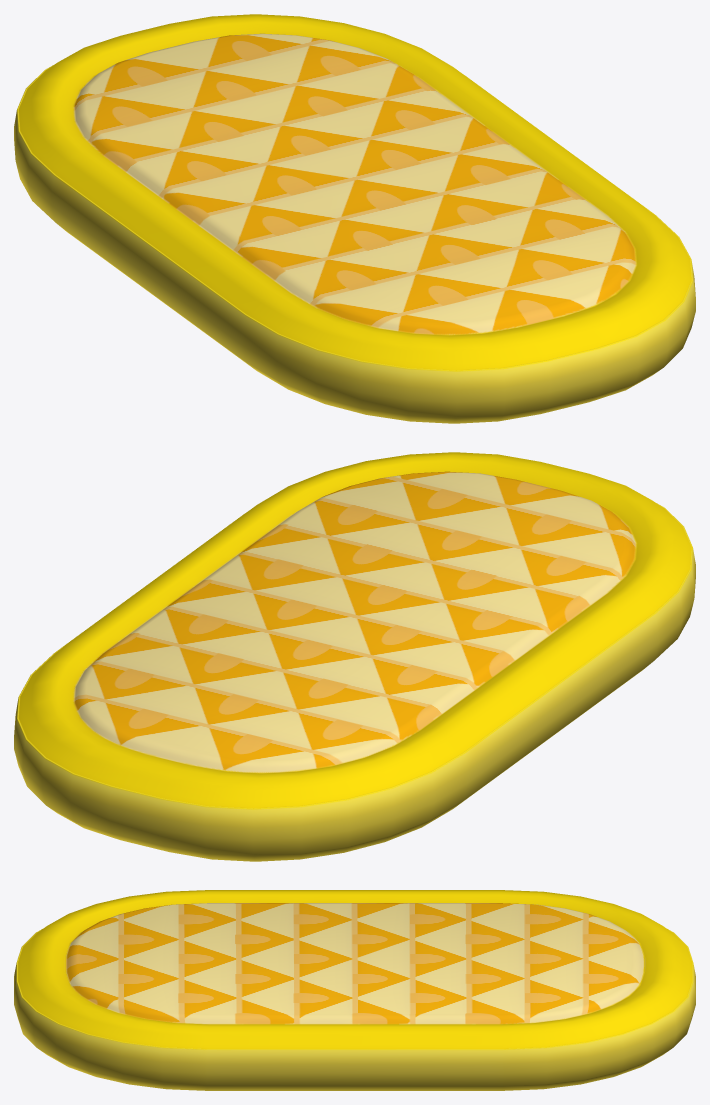
The model's file is PoolFloat04_2.FBX.
3 views of the same model, one above another, from view 1: azimuth 30°, elevation 25°; view 2: azimuth 150°, elevation 25°; view 3: azimuth 270°, elevation 25° (orthographic). The views are drawn at different scales.
Visible parts, largest first — view 1: PoolFloat04_2; view 2: PoolFloat04_2; view 3: PoolFloat04_2.
Boxes of the visible parts, x1,y1,x2,y2 form: PoolFloat04_2: [14, 14, 695, 423]; PoolFloat04_2: [14, 452, 695, 861]; PoolFloat04_2: [14, 890, 695, 1090].
Size of what is drawn, in the model's own units: 1.11 by 0.2084 by 2.04.
